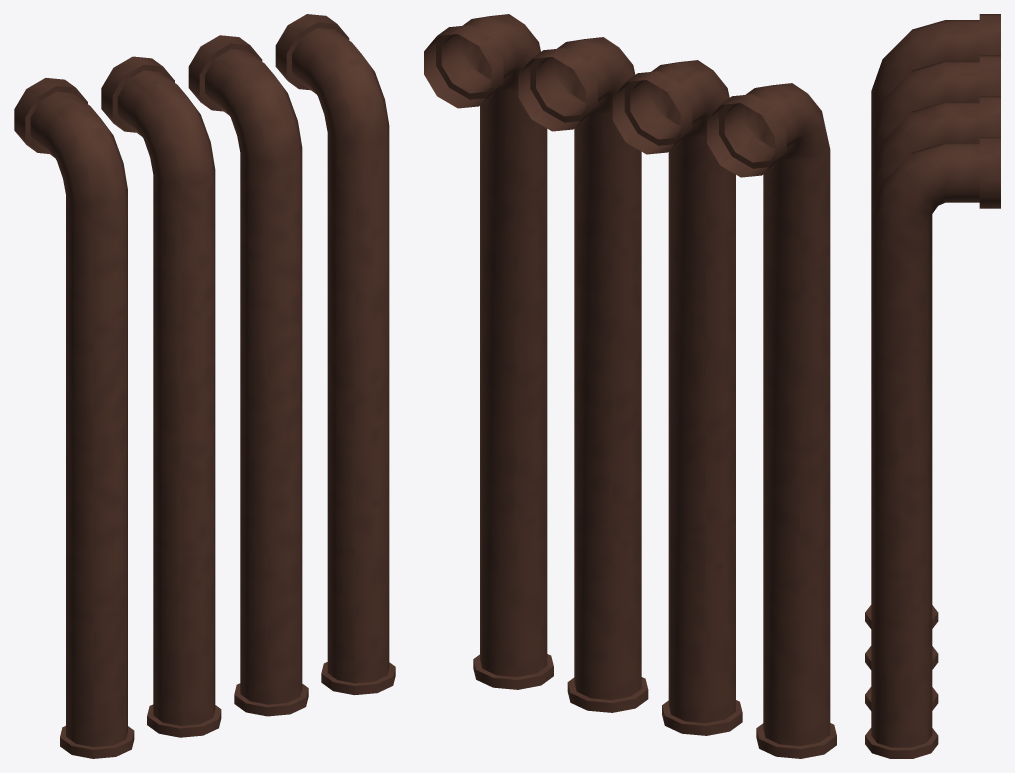
File: FourPipes.fbx
3 views of the same model, side by side, from view 1: azimuth 30°, elevation 25°; view 2: azimuth 150°, elevation 25°; view 3: azimuth 270°, elevation 25° (orthographic). The views are drawn at different scales.
Parts seen in each view (by area): view 1: Куб.003; view 2: Куб.003; view 3: Куб.003.
Boxes of the visible parts, box(x1,y1,x2,y2) form: Куб.003: box(14, 14, 395, 758); Куб.003: box(424, 14, 836, 758); Куб.003: box(865, 14, 1000, 758).
Size of the model in its own units: 335 by 619 by 126.
